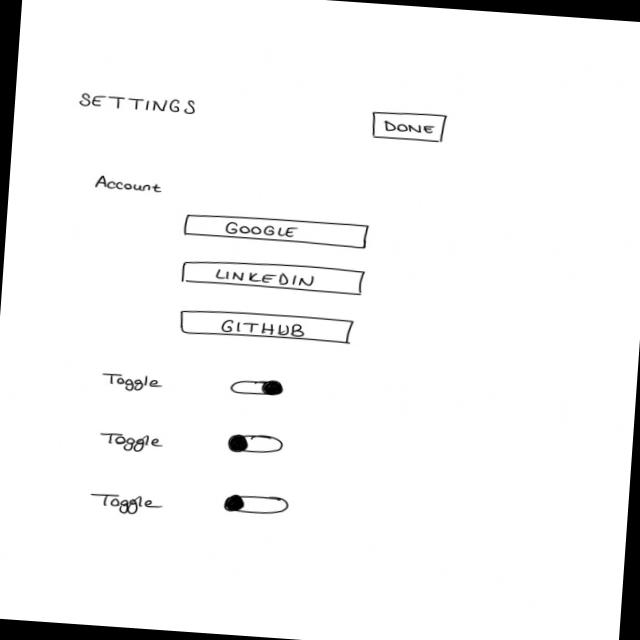button: (182, 210, 370, 249), (178, 256, 366, 295), (178, 306, 354, 346), (368, 108, 448, 144)
label: (78, 92, 198, 115), (87, 492, 164, 518), (96, 430, 164, 454), (92, 174, 164, 194), (100, 370, 164, 392)
toggle: (221, 492, 289, 516), (226, 432, 284, 456), (228, 376, 284, 398)
